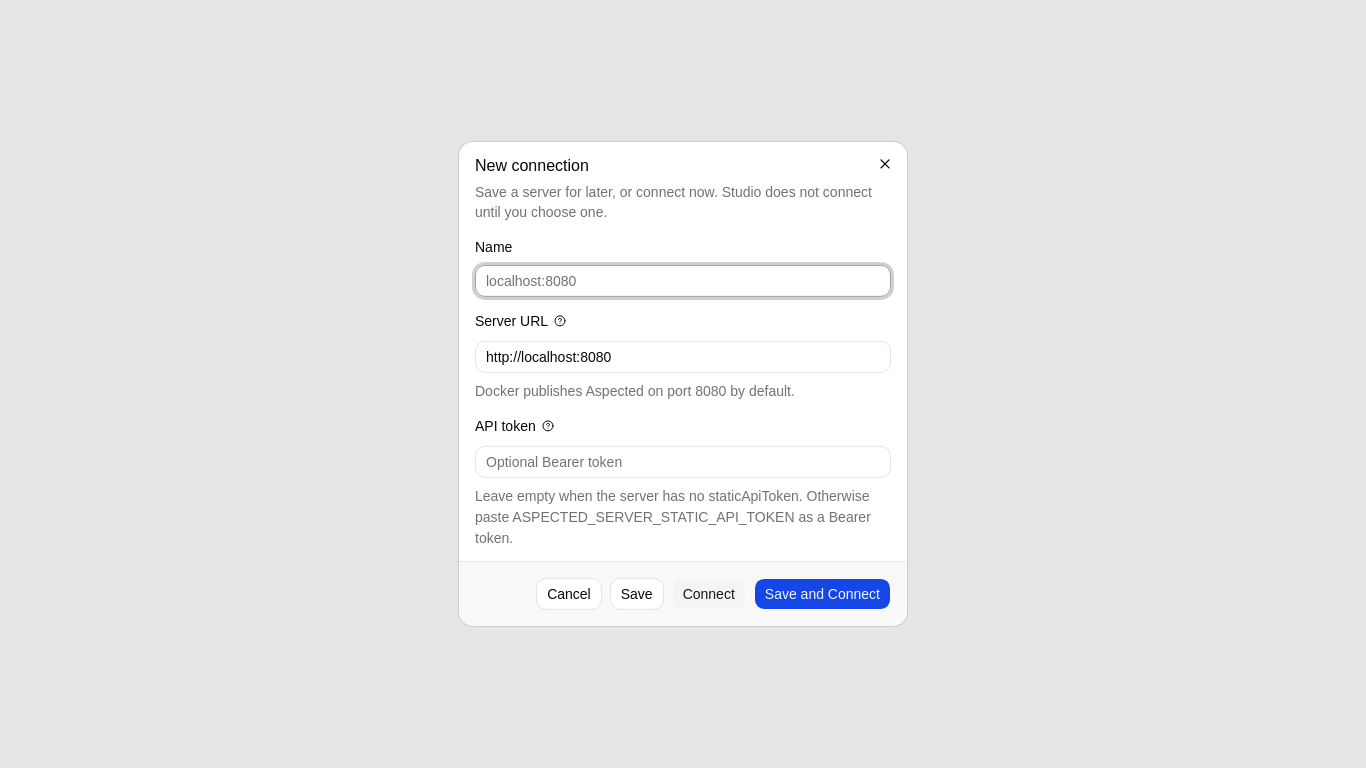
Test: ConnectionDialog › shows an inline error when Server URL is cleared and Save is clicked
Clear the field labelled "Server URL" at {"x": 683, "y": 357}, box [475,341,891,373]
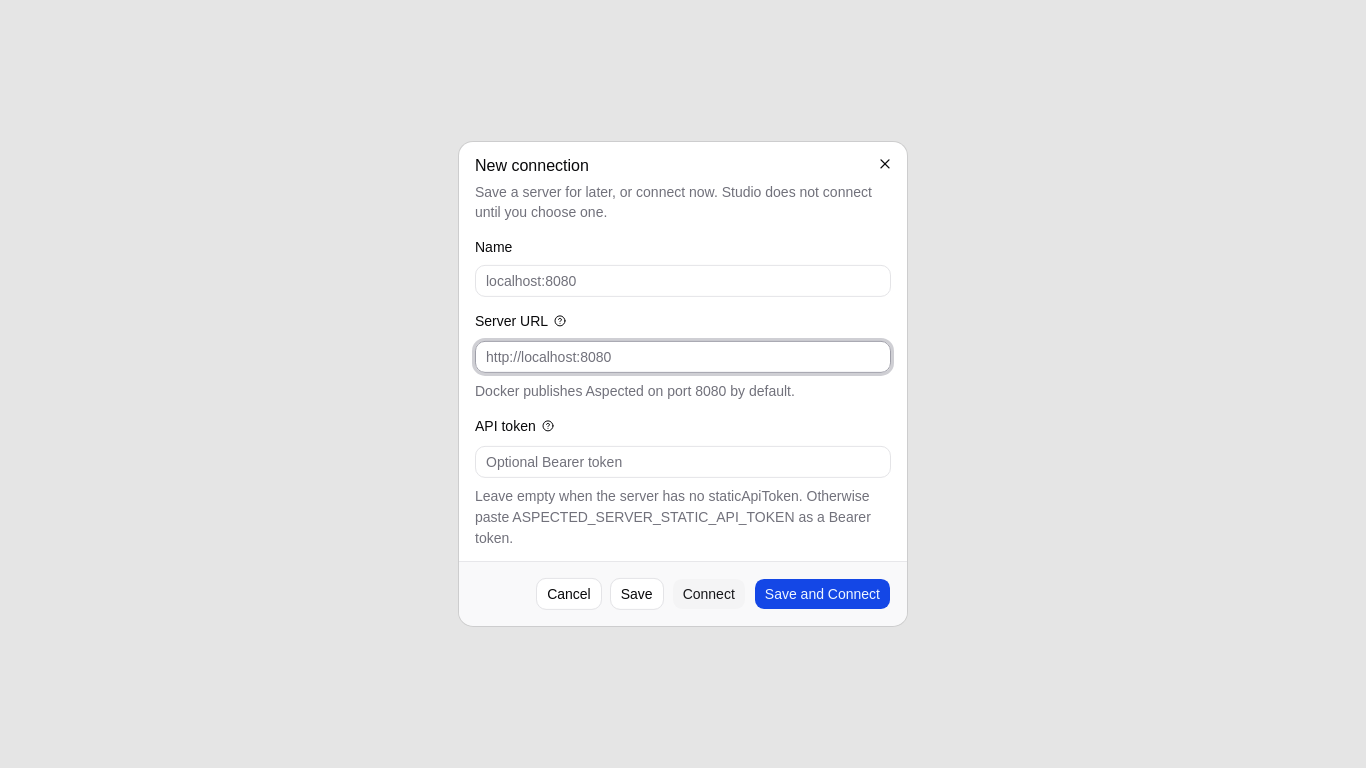
Click the button "Save".
click(637, 594)  # box [610,578,664,610]
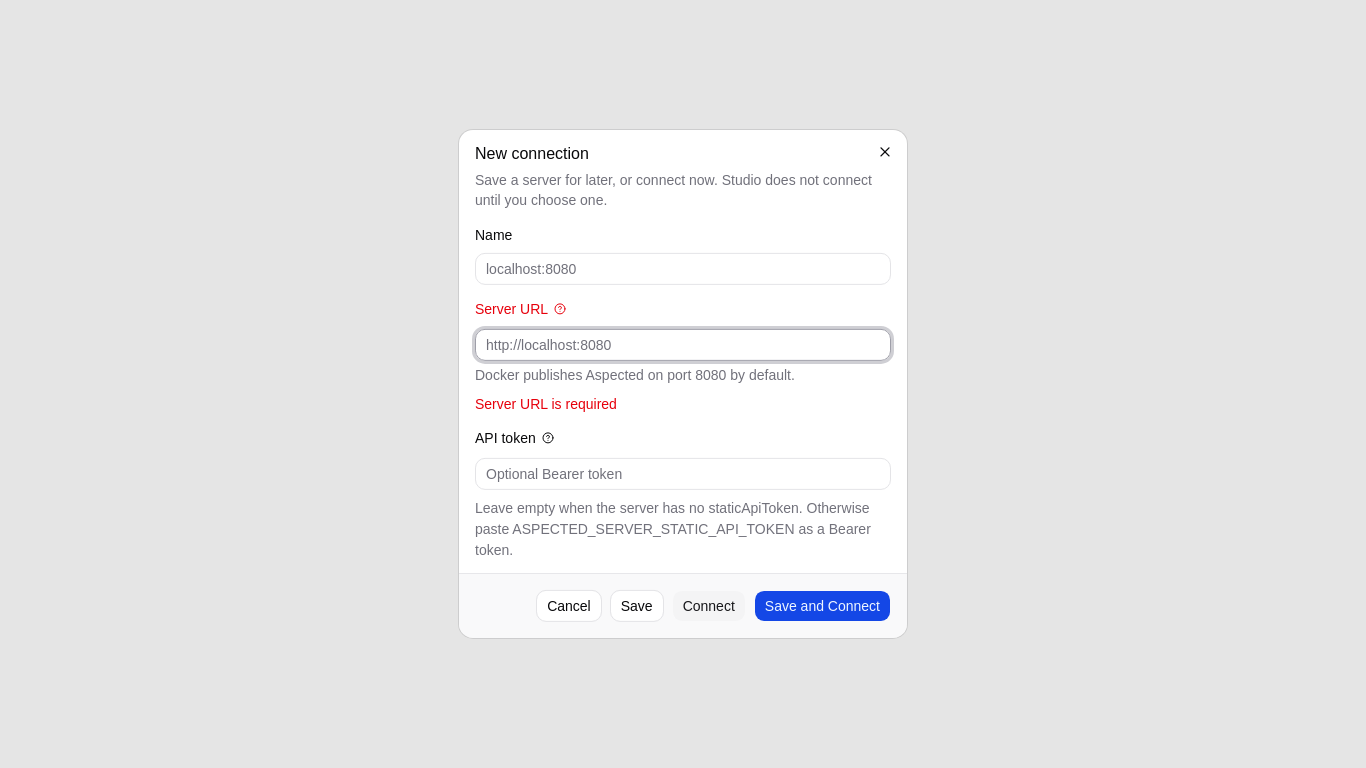
Result: the text "Server URL is required" is shown at [475,396,617,412]
